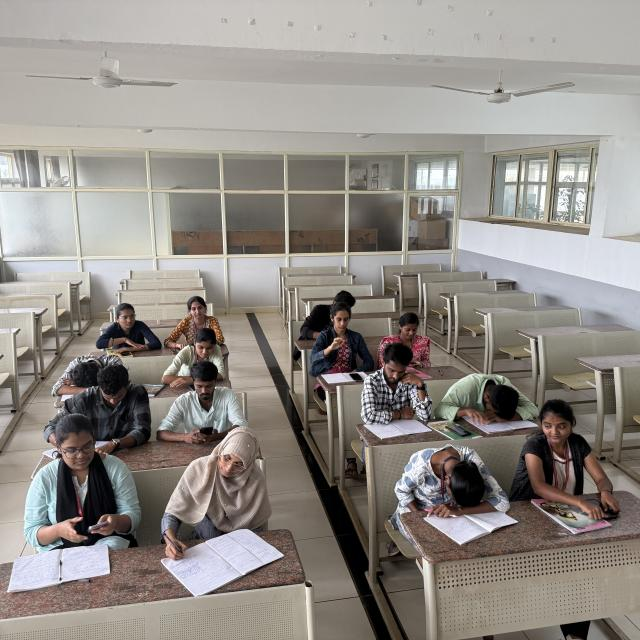Reading: (362, 344, 436, 436)
Sleeping: (398, 444, 505, 511), (442, 371, 535, 424), (46, 347, 133, 403)
Using Phone: (33, 413, 141, 547), (159, 360, 246, 446), (397, 311, 443, 377)
Writing: (160, 427, 284, 567)
